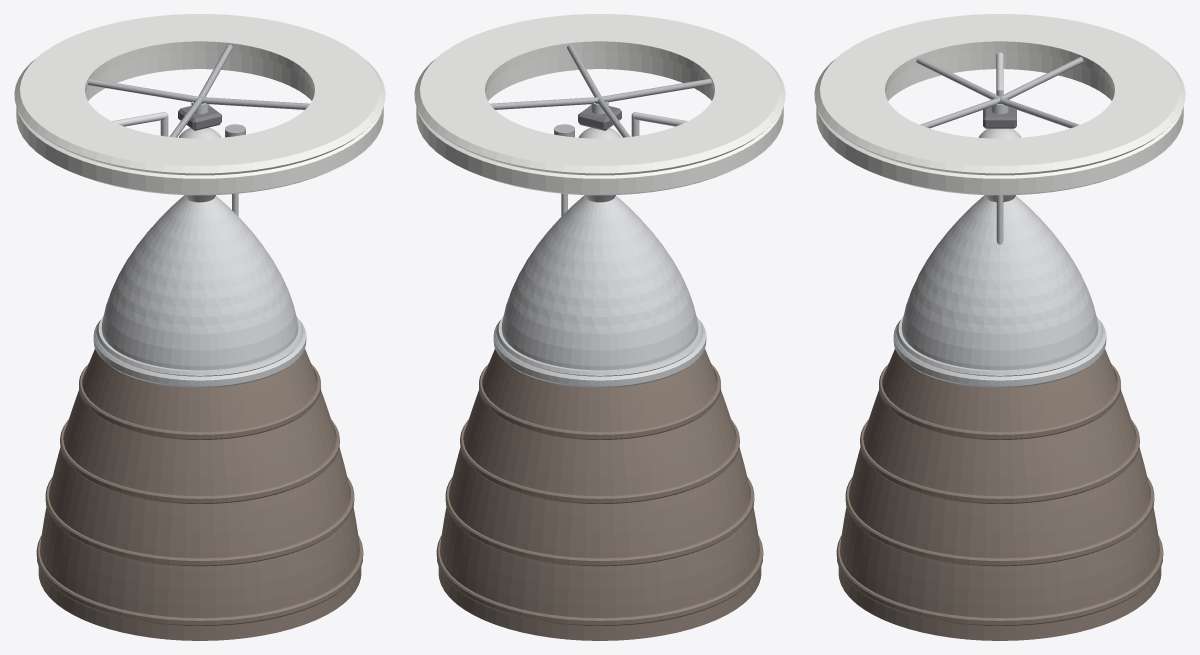
The model's file is ax_prop_10_hydrolox_vac_m_deployed.glb.
The picture shows the model from 3 angles, left to right: view 1: azimuth 30°, elevation 25°; view 2: azimuth 150°, elevation 25°; view 3: azimuth 270°, elevation 25°; orthographic projection.
Parts seen in each view (by area): view 1: nozzle_extension, mount_ring, regen_nozzle, thermal_blanket_ring, extension_hoops, joint_flange, thrust_struts, regen_manifold, plumbing, gimbal; view 2: nozzle_extension, mount_ring, regen_nozzle, thermal_blanket_ring, extension_hoops, joint_flange, thrust_struts, regen_manifold, plumbing, gimbal; view 3: nozzle_extension, mount_ring, regen_nozzle, thermal_blanket_ring, extension_hoops, joint_flange, thrust_struts, regen_manifold, plumbing, gimbal, injector_dome.
Boxes of the visible parts, x1,y1,x2,y2 form: nozzle_extension: (38,349,361,640); mount_ring: (14,14,385,175); regen_nozzle: (101,196,298,370); thermal_blanket_ring: (16,50,383,195); extension_hoops: (36,363,363,625); joint_flange: (93,320,306,387); thrust_struts: (88,44,309,137); regen_manifold: (96,315,303,376); plumbing: (112,112,238,216); gimbal: (178,100,221,130); nozzle_extension: (438,349,761,640); mount_ring: (414,14,785,175); regen_nozzle: (501,196,698,370); thermal_blanket_ring: (416,50,783,195); extension_hoops: (436,363,763,625); joint_flange: (493,320,706,387); thrust_struts: (490,44,711,137); regen_manifold: (496,315,703,376); plumbing: (561,112,687,216); gimbal: (578,100,621,130); nozzle_extension: (838,349,1161,640); mount_ring: (814,14,1185,175); regen_nozzle: (901,196,1098,370); thermal_blanket_ring: (816,50,1183,195); extension_hoops: (836,363,1163,625); joint_flange: (893,320,1106,387); thrust_struts: (916,57,1083,128); regen_manifold: (896,315,1103,376); plumbing: (996,52,1003,244); gimbal: (983,101,1016,128); injector_dome: (978,104,1021,138).
Bounding box in the file's own units: 2.5 × 3.59 × 2.5.
